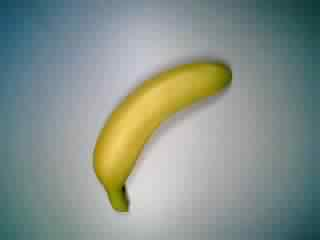banana: (85, 56, 235, 216)
